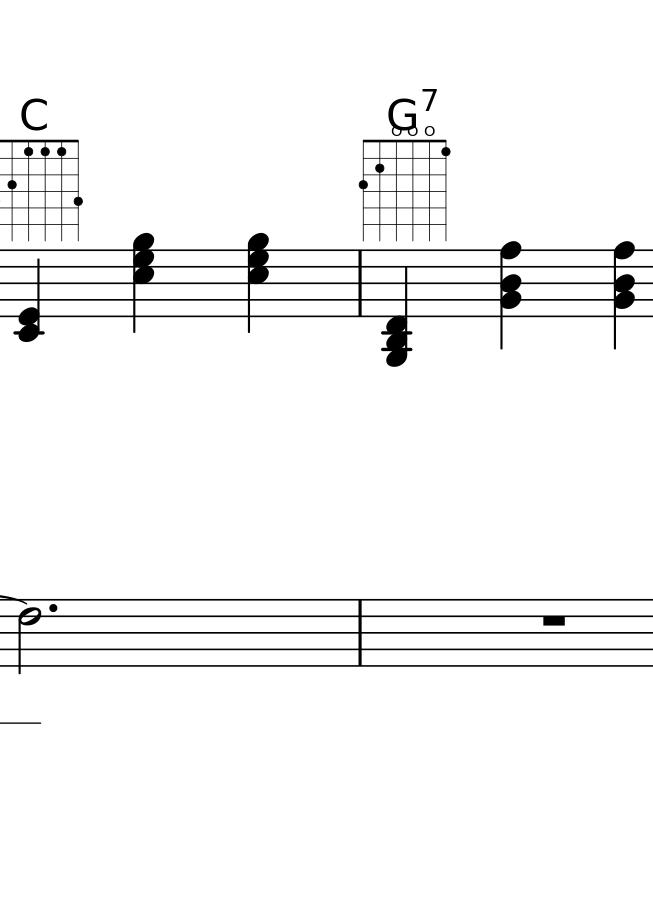2_6: (17, 597, 42, 676)
4_-2_0: (14, 249, 46, 343)
4_th: (380, 246, 412, 369), (494, 245, 523, 346), (608, 245, 636, 346), (244, 230, 269, 332), (130, 229, 154, 333)
7: (421, 85, 438, 112)
Fretboard: (355, 135, 457, 240)
Rests1: (535, 609, 571, 629)
Single_barline: (352, 251, 370, 318), (353, 600, 368, 666)
dot: (46, 600, 59, 614)
